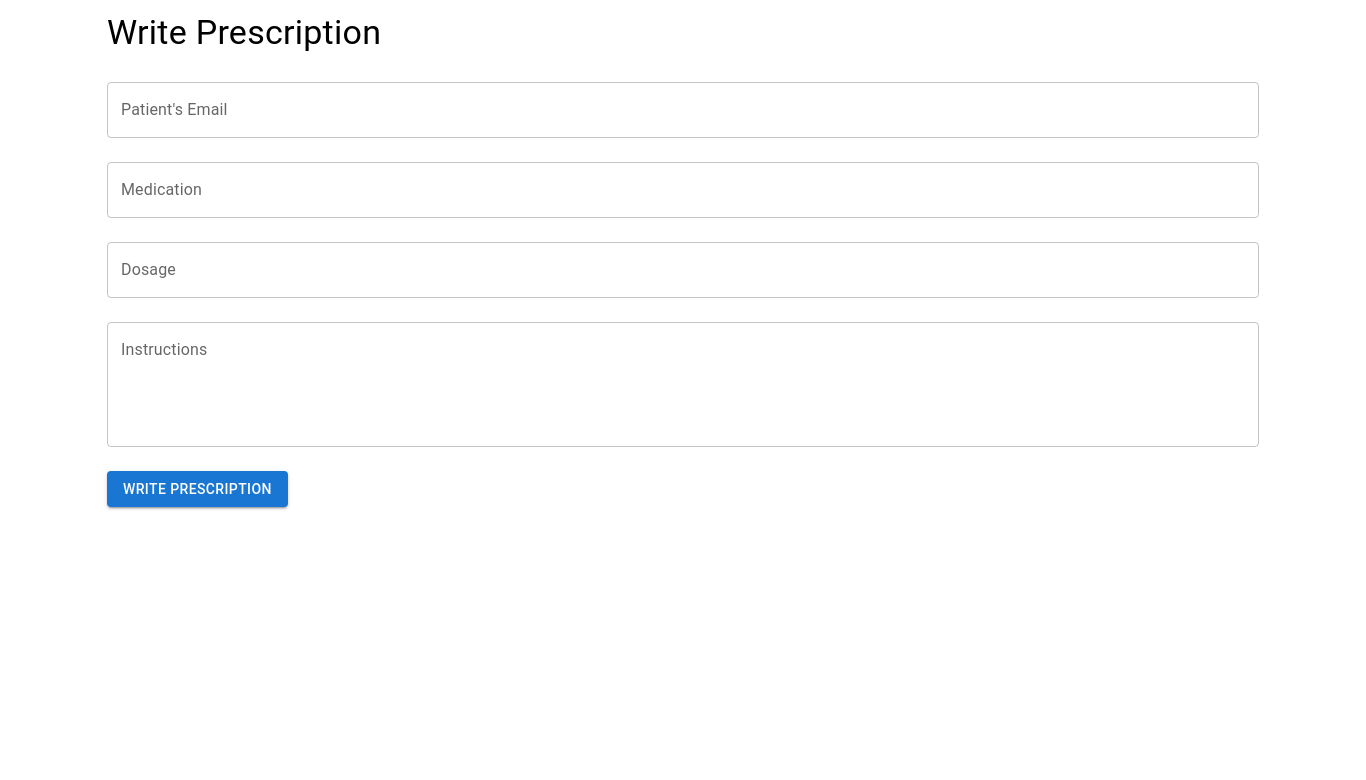
Prescription Component › shows validation error if fields are empty and prescribe button is clicked
Click the button "Write Prescription" at {"x": 197, "y": 489}, box left=107, top=471, right=288, bottom=507
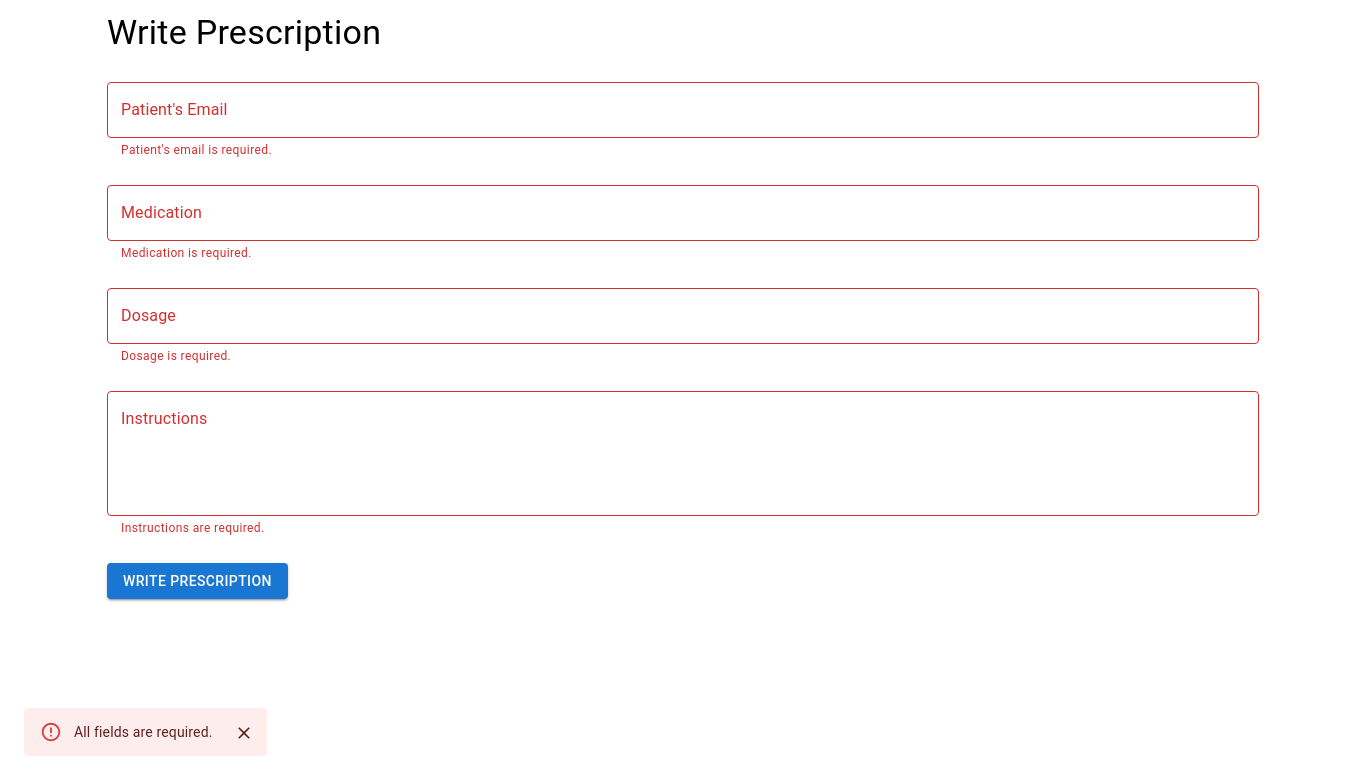
Check: the text "Patient's email is required." is shown, box left=121, top=143, right=272, bottom=157
Check: the text "Medication is required." is shown, box left=121, top=246, right=252, bottom=260
Check: the text "Dosage is required." is shown, box left=121, top=349, right=231, bottom=363
